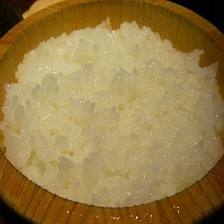rice: (0, 17, 224, 207)
